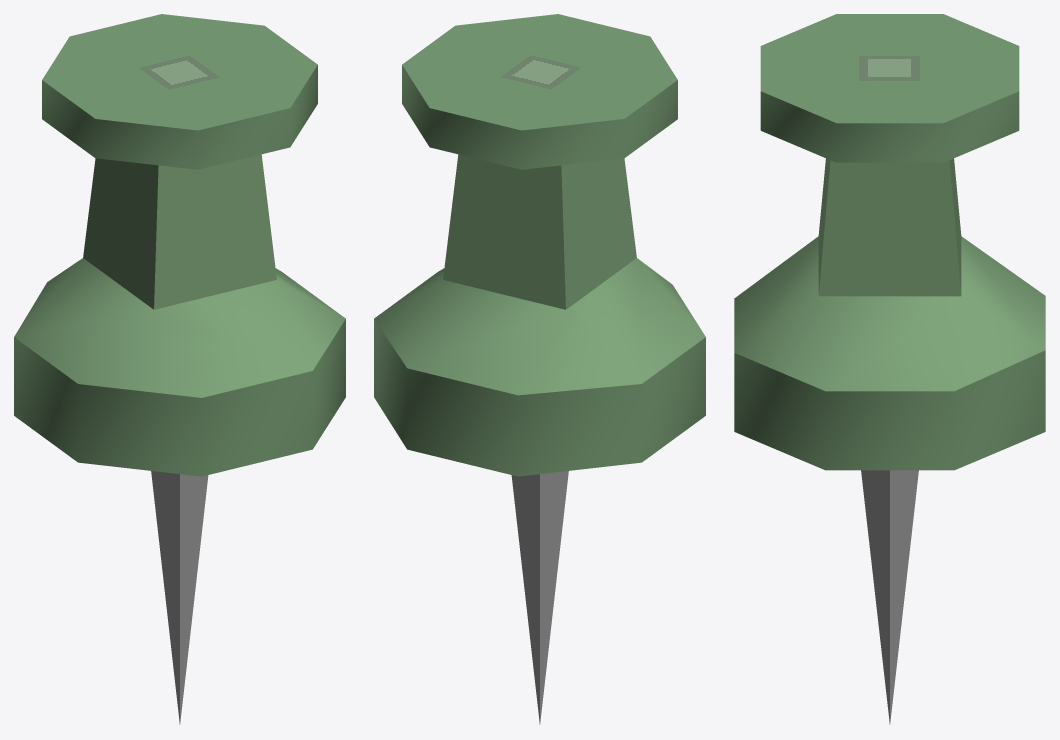
File: 0329_Pushpin.glb
3 renders of one model, left to right at view 1: azimuth 30°, elevation 25°; view 2: azimuth 150°, elevation 25°; view 3: azimuth 270°, elevation 25°, orthographic.
Visible parts, largest first — view 1: part_0; view 2: part_0; view 3: part_0.
Part boxes in pixels (x1,y1,x2,y2): part_0: (14, 14, 345, 724); part_0: (374, 14, 705, 724); part_0: (734, 14, 1045, 724).
Size of the model in its own units: 0.0114 by 0.0266 by 0.0114.
Materials: 1 (1 with a texture image).
